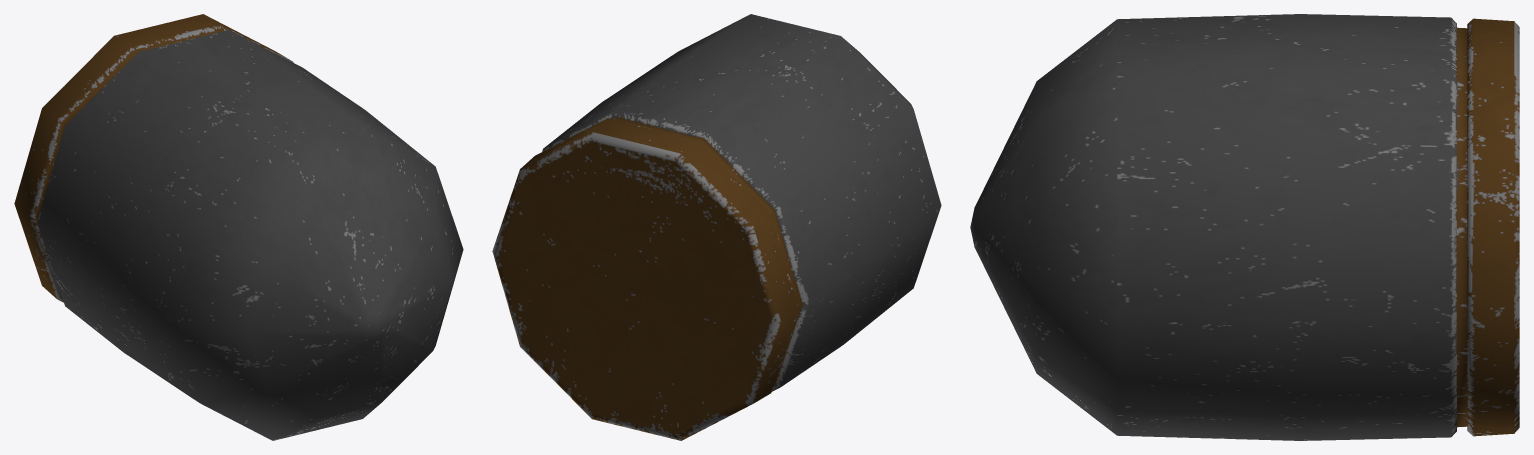
Rendered from Tank_Bullet.fbx.
The picture shows the model from 3 angles, left to right: view 1: azimuth 30°, elevation 25°; view 2: azimuth 150°, elevation 25°; view 3: azimuth 270°, elevation 25°; orthographic projection. The views are drawn at different scales.
Parts seen in each view (by area): view 1: Tank_Bullet; view 2: Tank_Bullet; view 3: Tank_Bullet.
Boxes of the visible parts, x1,y1,x2,y2 form: Tank_Bullet: (14, 14, 463, 440); Tank_Bullet: (492, 14, 941, 440); Tank_Bullet: (970, 14, 1519, 440).
Bounding box in the file's own units: 0.4701 × 0.4471 × 0.6003.
